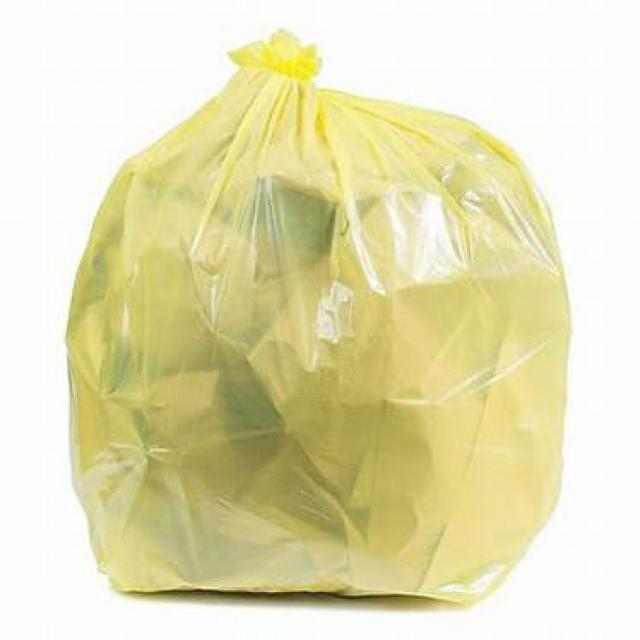waste: (72, 31, 564, 608)
